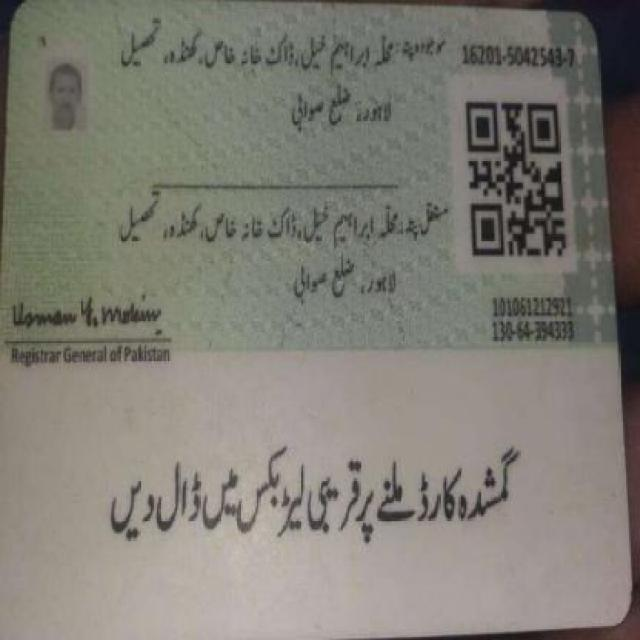Back: (5, 12, 612, 625)
